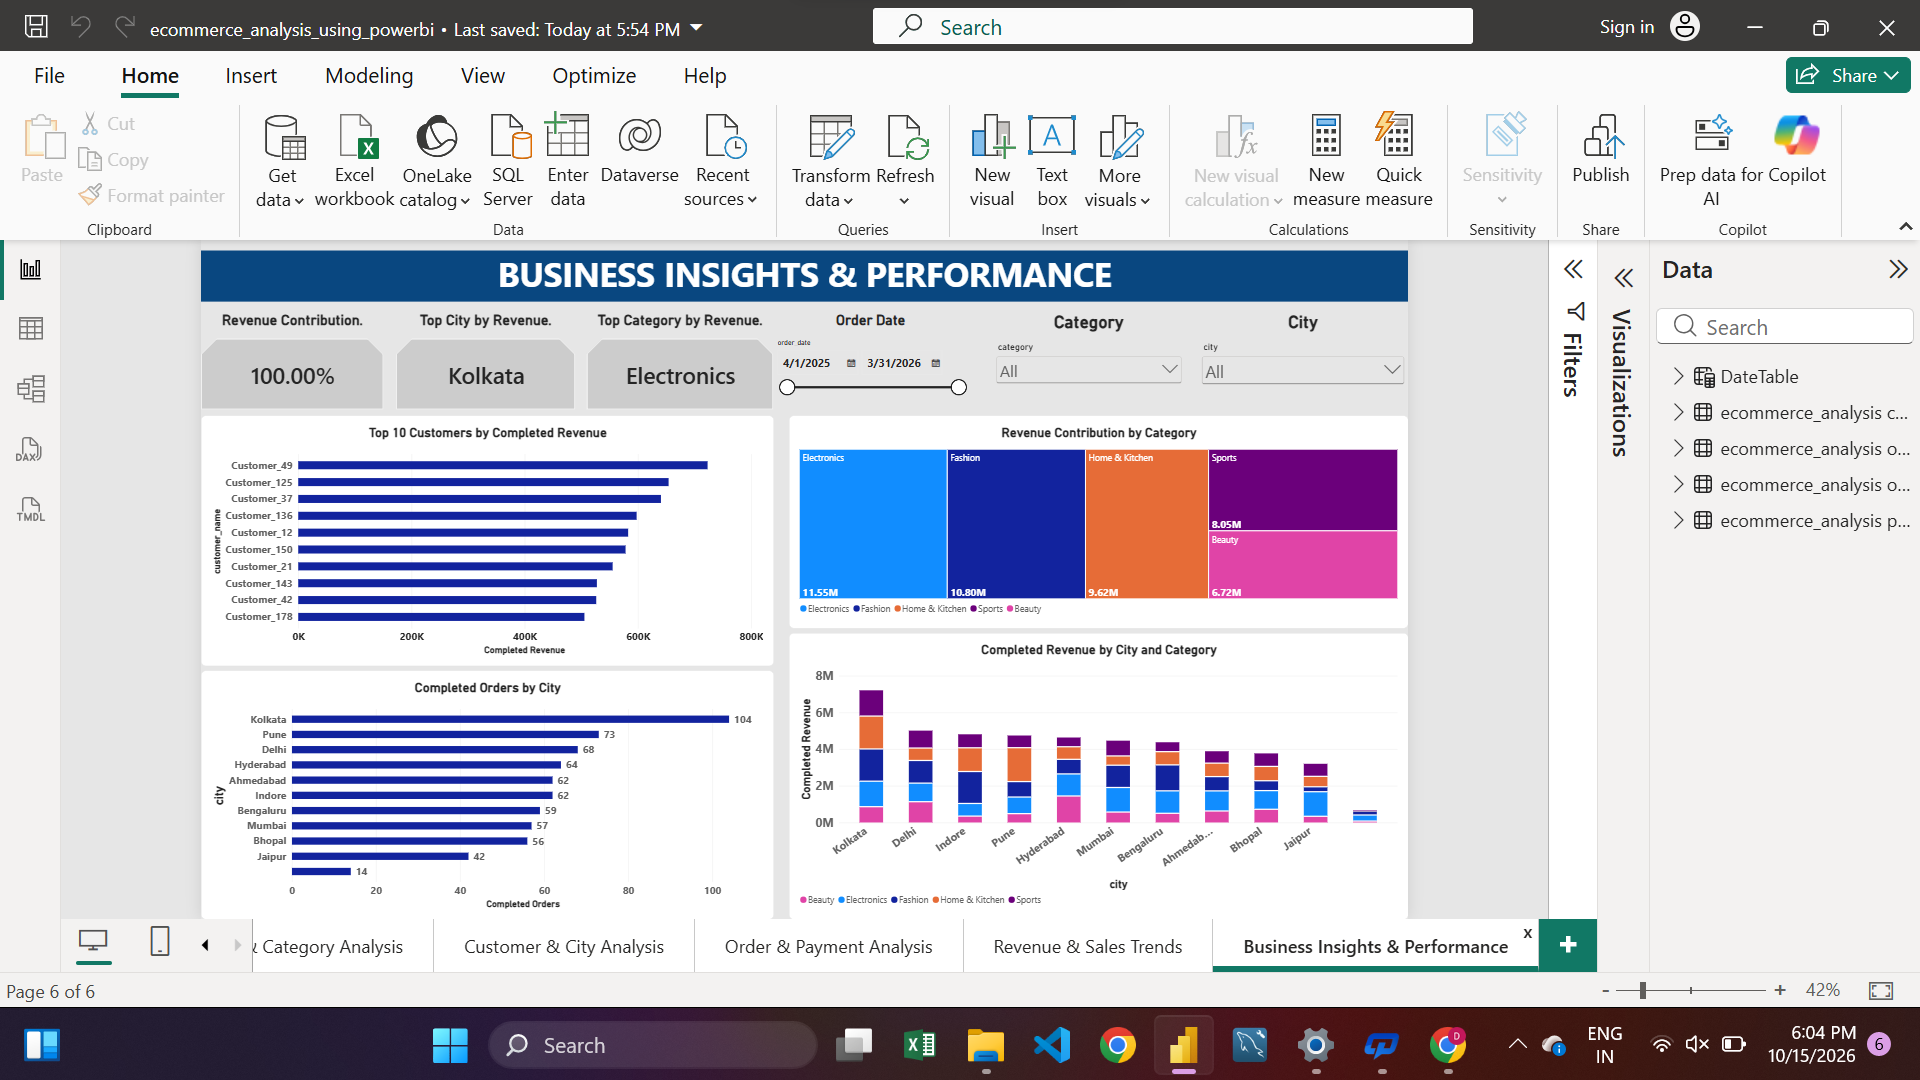

The dashboard page shown, as its layout file describes it:
{"tool":"powerbi","page":{"name":"Business Insights & Performance","canvas":[1920,1080],"ordinal":5},"visuals":[{"type":"textbox","box":[0,17,1921.2,97.2],"z":0},{"type":"slicer","title":"Order Date","fields":{"Values":["ecommerce_analysis orders.order_date"]},"box":[910,115,312.5,155],"z":1000},{"type":"slicer","title":"Category","fields":{"Values":["ecommerce_analysis products.category"]},"box":[1260,115,305,155],"z":2000},{"type":"slicer","title":"City","fields":{"Values":["ecommerce_analysis customers.city"]},"box":[1587.5,115,332.5,155],"z":3000},{"type":"textbox","box":[0,16.7,1920.7,81.1],"z":4000},{"type":"cardVisual","title":"Revenue Contribution.","fields":{"Data":["DateTable.Revenue Contribution %"]},"box":[0,115,290,155],"z":5000},{"type":"cardVisual","title":"Top Category by Revenue.","fields":{"Data":["DateTable.Top Category by Revenue"]},"box":[612.5,115,297.5,155],"z":6000},{"type":"cardVisual","title":"Top City by Revenue.","fields":{"Data":["DateTable.Top City by Revenue"]},"box":[310,115,285,155],"z":7000},{"type":"treemap","title":"Revenue Contribution by Category","fields":{"Group":["ecommerce_analysis products.category"],"Values":["ecommerce_analysis order_items.Completed Revenue"]},"box":[934.6,279.2,985.4,338.8],"z":8000},{"type":"clusteredBarChart","title":"Top 10 Customers by Completed Revenue","fields":{"Category":["ecommerce_analysis customers.customer_name"],"Y":["ecommerce_analysis order_items.Completed Revenue"]},"box":[0,279.2,911.4,398.4],"z":9000},{"type":"columnChart","title":"Completed Revenue by City and Category","fields":{"Category":["ecommerce_analysis customers.city"],"Y":["ecommerce_analysis order_items.Completed Revenue"],"Series":["ecommerce_analysis products.category"]},"box":[935.3,625.1,985.4,455.7],"z":10000},{"type":"clusteredBarChart","title":"Completed Orders by City","fields":{"Category":["ecommerce_analysis customers.city"],"Y":["ecommerce_analysis order_items.Completed Orders"]},"box":[0,684.8,911.4,396.1],"z":11000}]}

Visuals, with their boxes on the page's 1920x1080 design canvas (x1, y1, x2, y2). These are canvas units, not pixel positions in the 1920x1080 screenshot, which may show the page scaled, cropped or inside an application window:
textbox: {"x1": 0, "y1": 17, "x2": 1921, "y2": 114}
"Order Date" slicer: {"x1": 910, "y1": 115, "x2": 1222, "y2": 270}
"Category" slicer: {"x1": 1260, "y1": 115, "x2": 1565, "y2": 270}
"City" slicer: {"x1": 1588, "y1": 115, "x2": 1920, "y2": 270}
textbox: {"x1": 0, "y1": 17, "x2": 1921, "y2": 98}
"Revenue Contribution." cardVisual: {"x1": 0, "y1": 115, "x2": 290, "y2": 270}
"Top Category by Revenue." cardVisual: {"x1": 612, "y1": 115, "x2": 910, "y2": 270}
"Top City by Revenue." cardVisual: {"x1": 310, "y1": 115, "x2": 595, "y2": 270}
"Revenue Contribution by Category" treemap: {"x1": 935, "y1": 279, "x2": 1920, "y2": 618}
"Top 10 Customers by Completed Revenue" clusteredBarChart: {"x1": 0, "y1": 279, "x2": 911, "y2": 678}
"Completed Revenue by City and Category" columnChart: {"x1": 935, "y1": 625, "x2": 1921, "y2": 1081}
"Completed Orders by City" clusteredBarChart: {"x1": 0, "y1": 685, "x2": 911, "y2": 1081}
